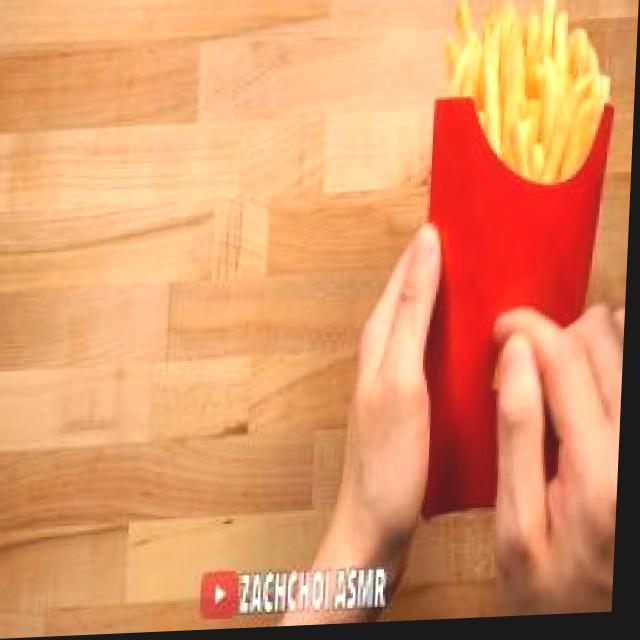french fries: (425, 0, 628, 203)
